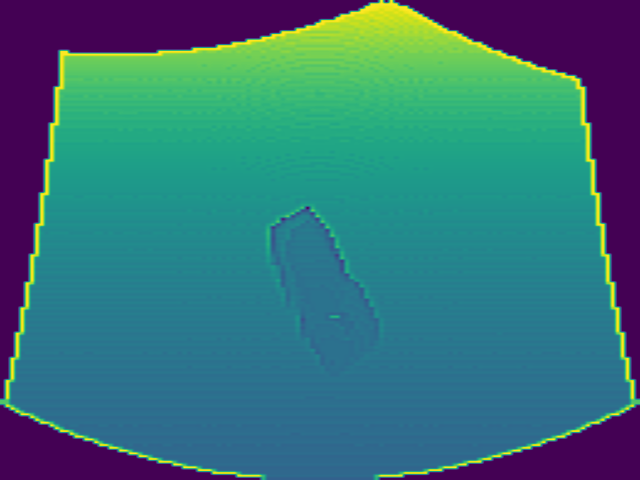car_0027: (270, 206, 382, 375)
